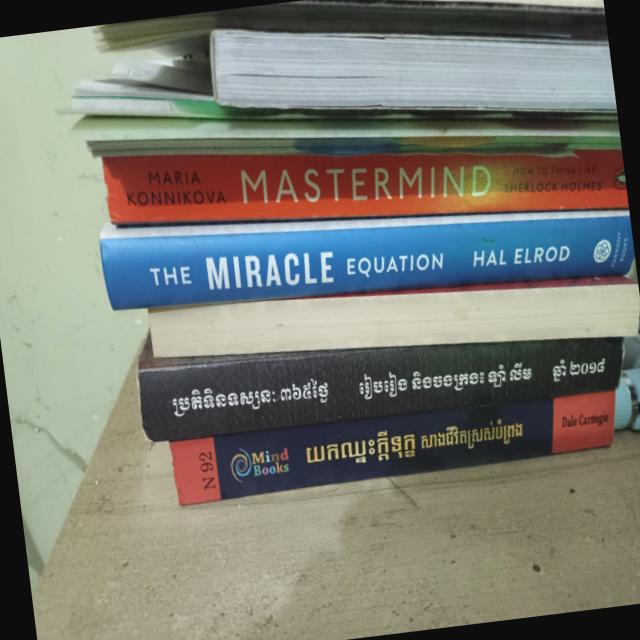1: (301, 414, 529, 474), (168, 374, 334, 426)
2: (355, 357, 535, 406)
Yolov11kh: (549, 354, 606, 384)
